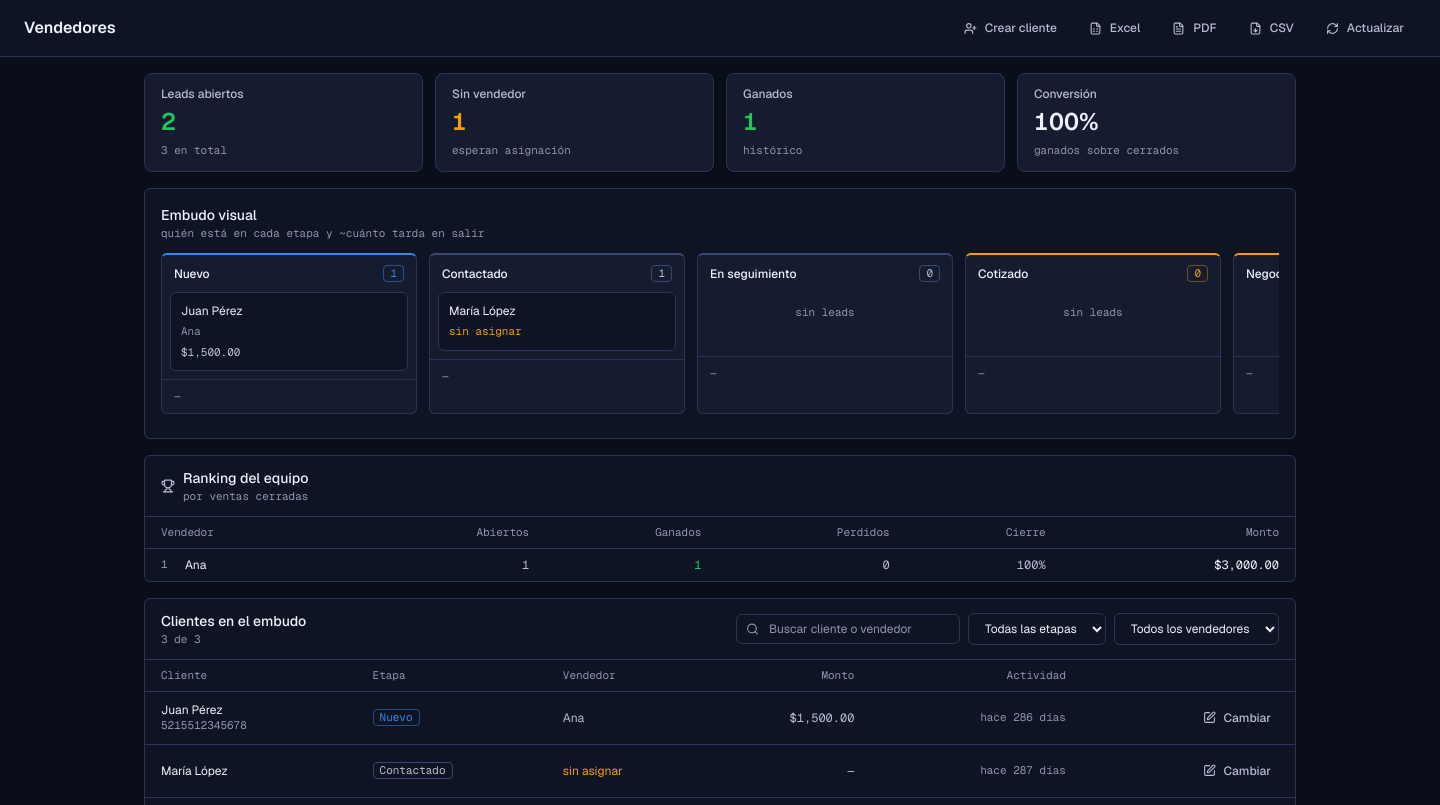
Test case: si la exportación falla, muestra un aviso de error (role=alert)
The image size is (1440, 805).
Expected: the text "Juan Pérez" below "Embudo visual" is shown, [181,303,243,319]
Click the button "CSV" at (1271,28), box [1237,10,1306,46]
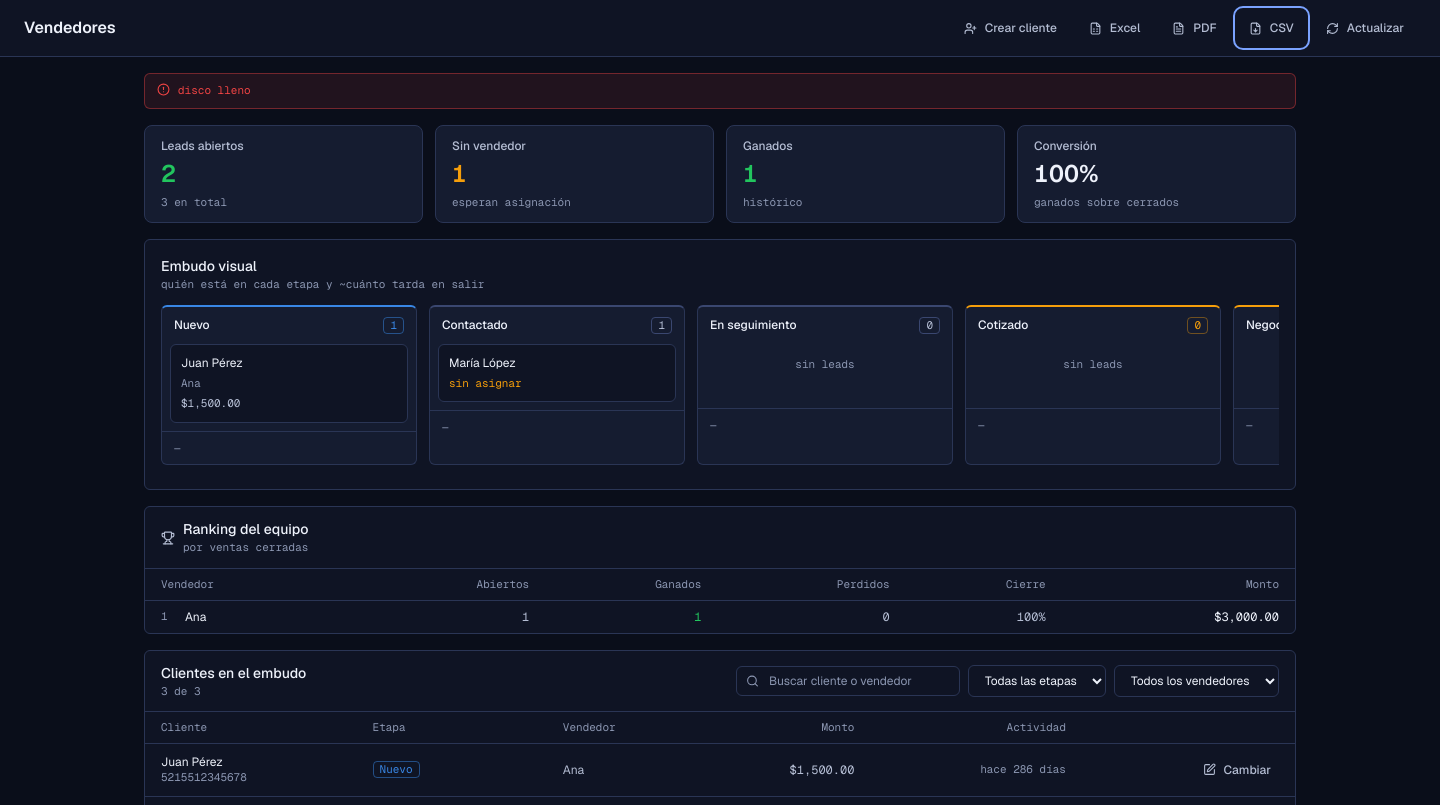
Expected: the message reads "disco lleno", [178,83,251,97]
